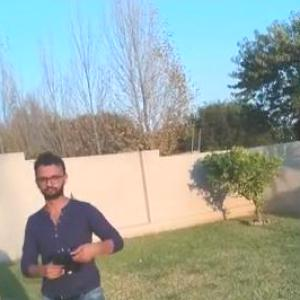follow: (16, 145, 130, 299)
